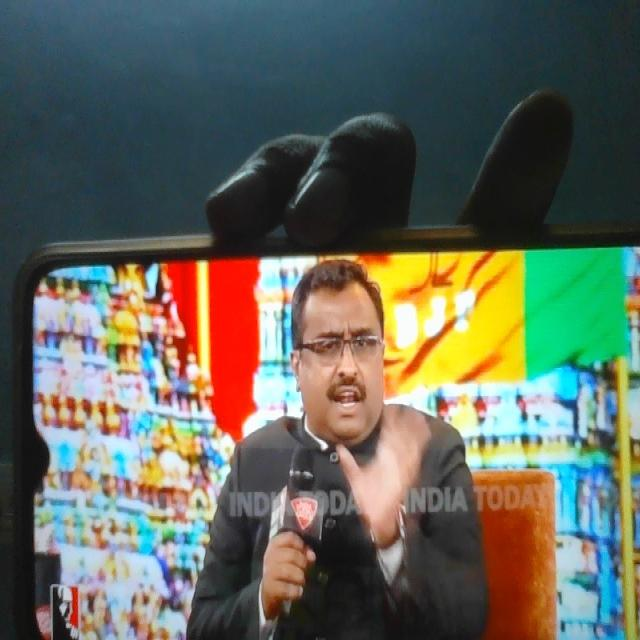fake: (291, 244, 397, 445)
